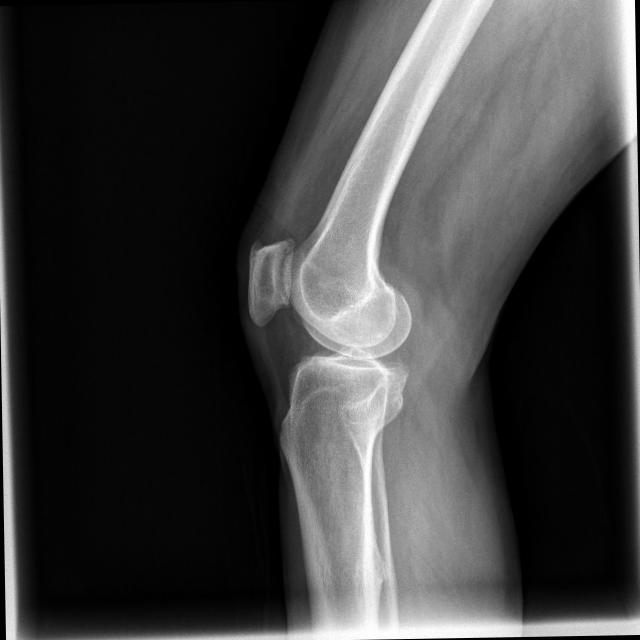Knee: (243, 232, 414, 434)
